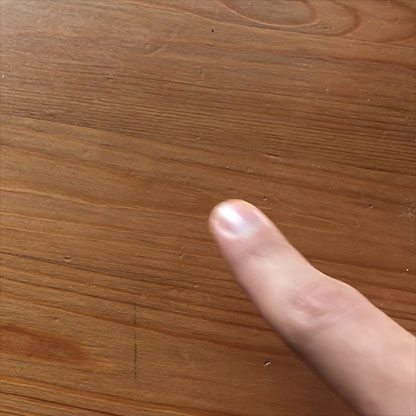fingertip: (202, 188, 288, 262)
